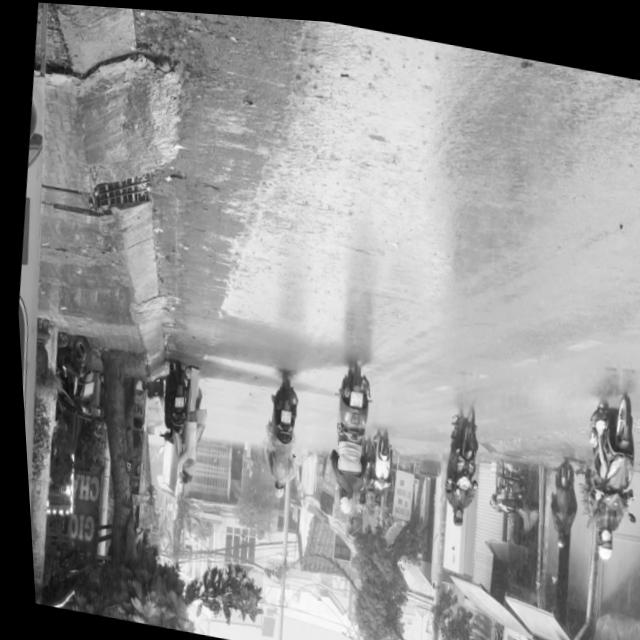helmet: (588, 520, 610, 555), (330, 485, 349, 512)
licenseplate: (565, 374, 640, 560), (312, 352, 378, 516)
nohelmet: (343, 385, 358, 403)
